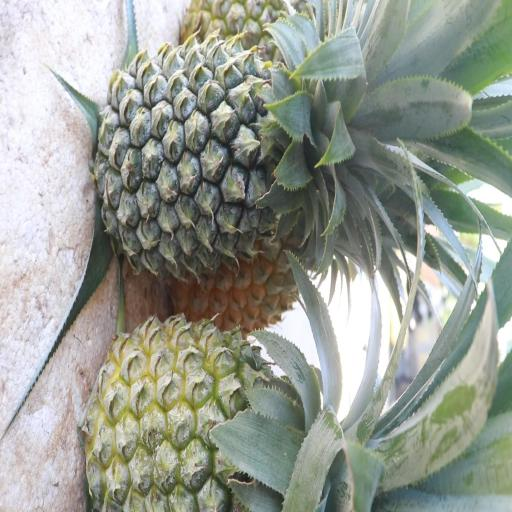------------------------------: (90, 312, 340, 512)
